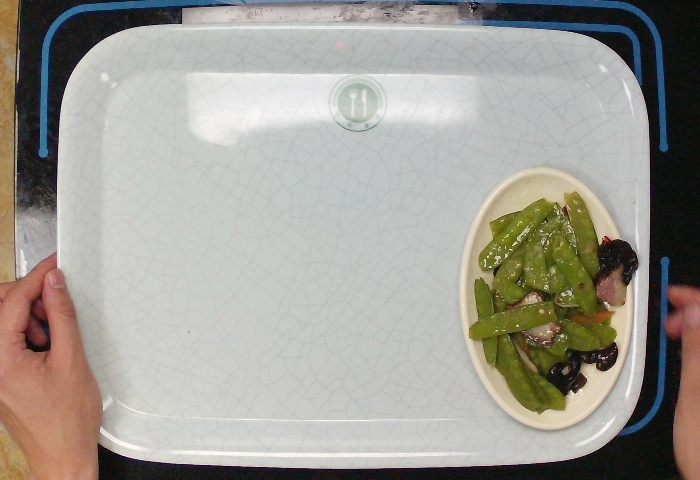JYsf-Tuo_Yuan_Wan: (454, 162, 643, 435)
